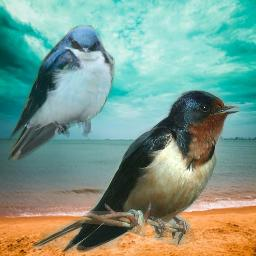Swallow: (32, 89, 240, 253), (4, 24, 115, 162)
